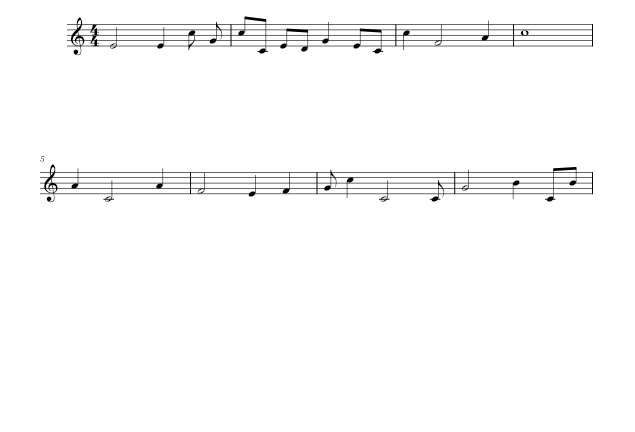Treble Clef: (67, 10, 89, 60), (42, 164, 62, 209)
